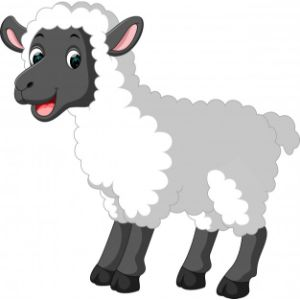sheep: (1, 2, 298, 299)
